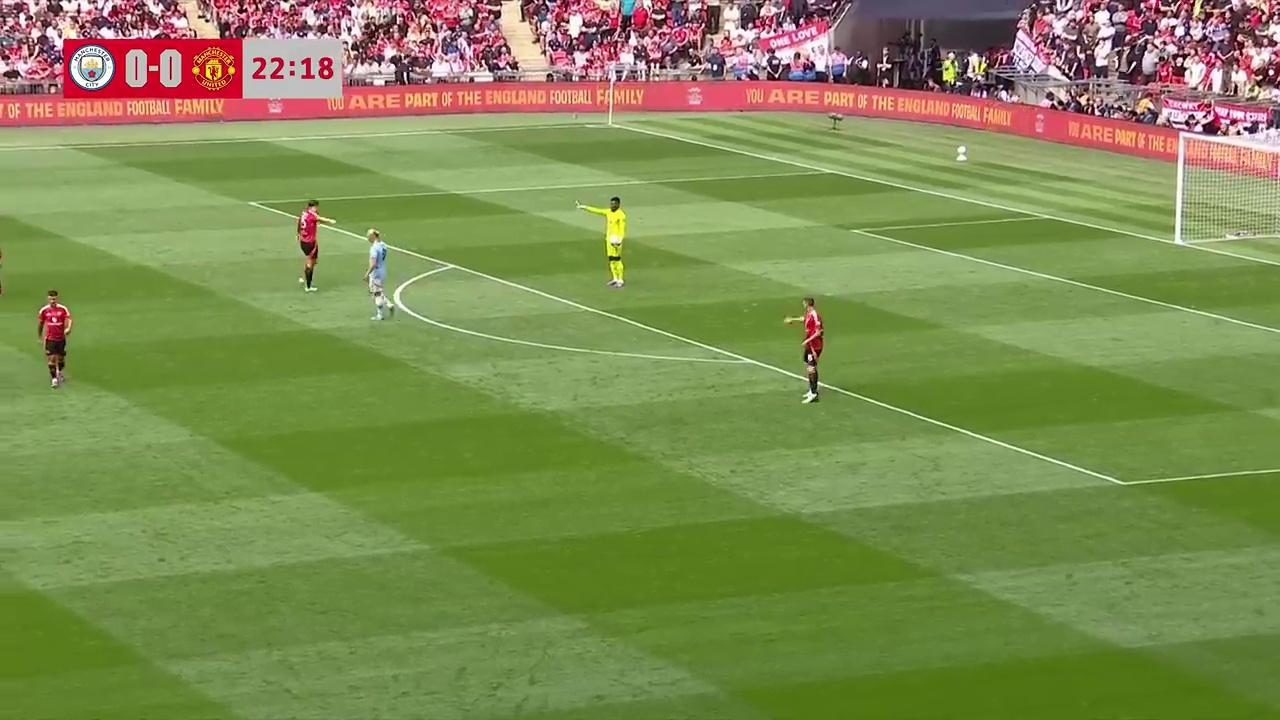ball: (614, 274, 624, 289)
player: (781, 297, 823, 406), (37, 289, 72, 387), (360, 227, 394, 320), (295, 200, 321, 290), (605, 196, 626, 288)
